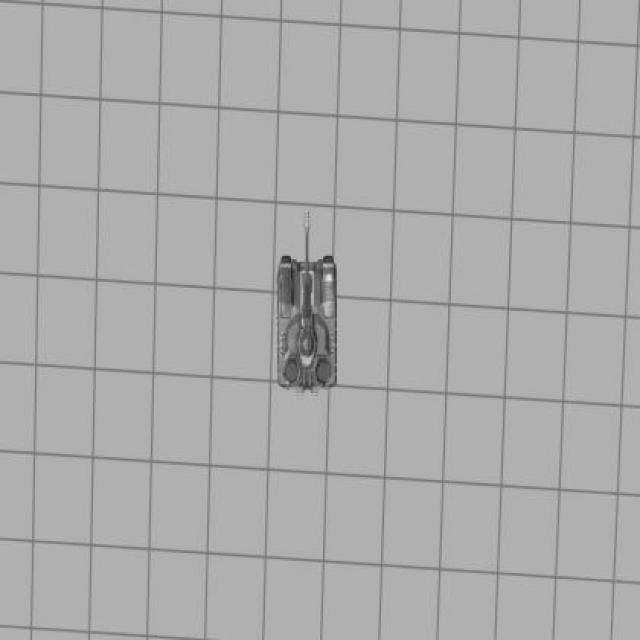tank: (277, 213, 339, 398)
